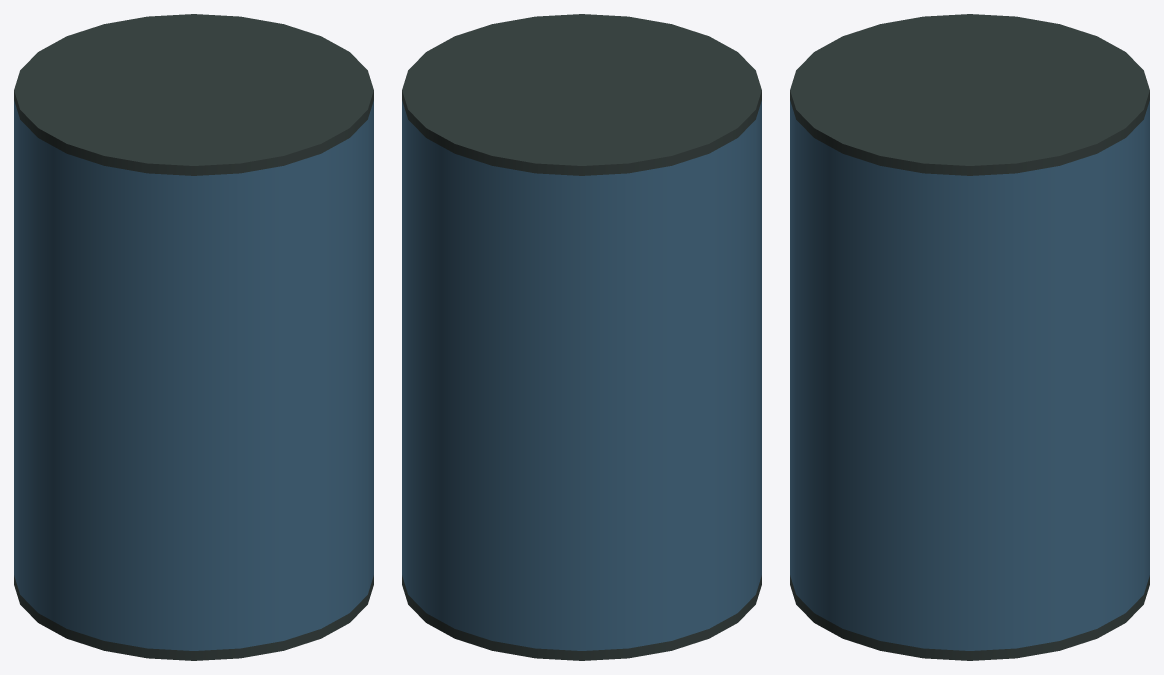
The model's file is barrel.glb.
3 renders of one model, left to right at view 1: azimuth 30°, elevation 25°; view 2: azimuth 150°, elevation 25°; view 3: azimuth 270°, elevation 25°, orthographic.
Parts seen in each view (by area): view 1: Body, TopRim, BottomRim; view 2: Body, TopRim, BottomRim; view 3: Body, TopRim, BottomRim.
Part boxes in pixels (box(x1,y1,x2,y2)): Body: box(14, 100, 373, 650); TopRim: box(14, 14, 373, 175); BottomRim: box(14, 575, 373, 660); Body: box(402, 100, 761, 650); TopRim: box(402, 14, 761, 175); BottomRim: box(402, 575, 761, 660); Body: box(790, 100, 1149, 650); TopRim: box(790, 14, 1149, 175); BottomRim: box(790, 575, 1149, 660).
Bounding box in the file's own units: 0.58 × 0.88 × 0.58.
